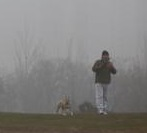person: (92, 49, 117, 116)
